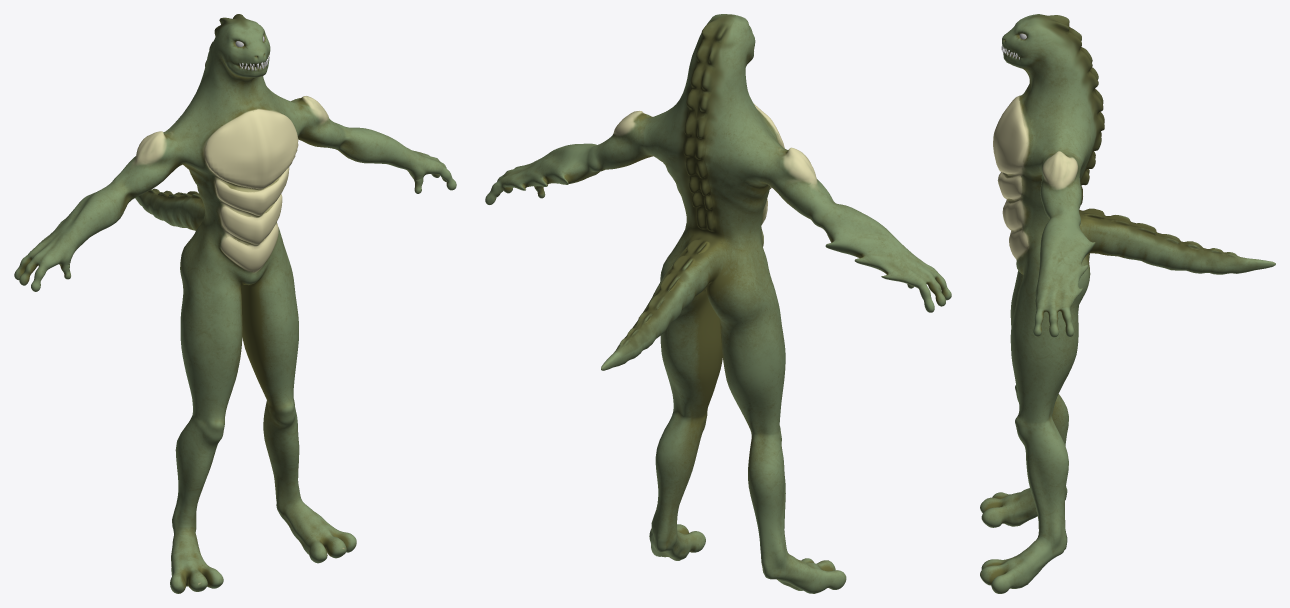
Rendered from EnemyModel.fbx.
3 renders of one model, left to right at view 1: azimuth 30°, elevation 25°; view 2: azimuth 150°, elevation 25°; view 3: azimuth 270°, elevation 25°, orthographic. The views are drawn at different scales.
Visible parts, largest first — view 1: LizardManLowp; view 2: LizardManLowp; view 3: LizardManLowp.
Part boxes in pixels (bbox=[...]): LizardManLowp: bbox=[14, 14, 456, 593]; LizardManLowp: bbox=[485, 14, 951, 593]; LizardManLowp: bbox=[980, 14, 1275, 593].
Size of the model in its own units: 344 by 411 by 205.
